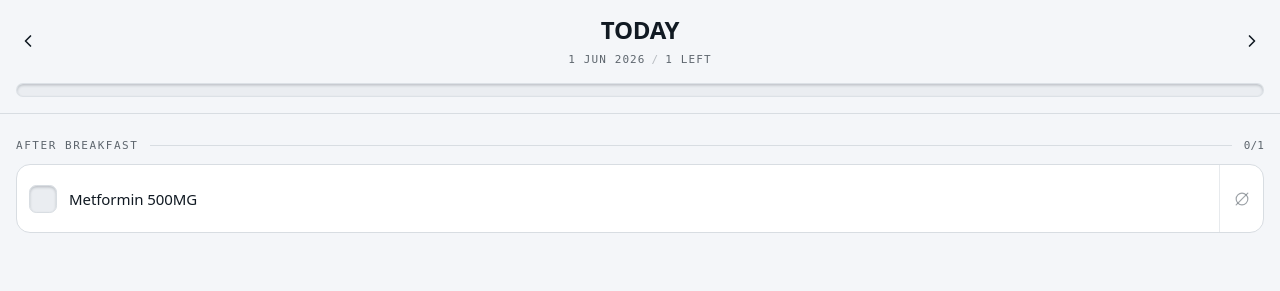
the day rolling over under the Today screen › stays on a day the user walked to, and relabels it
The image size is (1280, 291).
Click the button named "previous day".
click(28, 41)  # box [12, 25, 44, 57]
Wait 10000000 ms
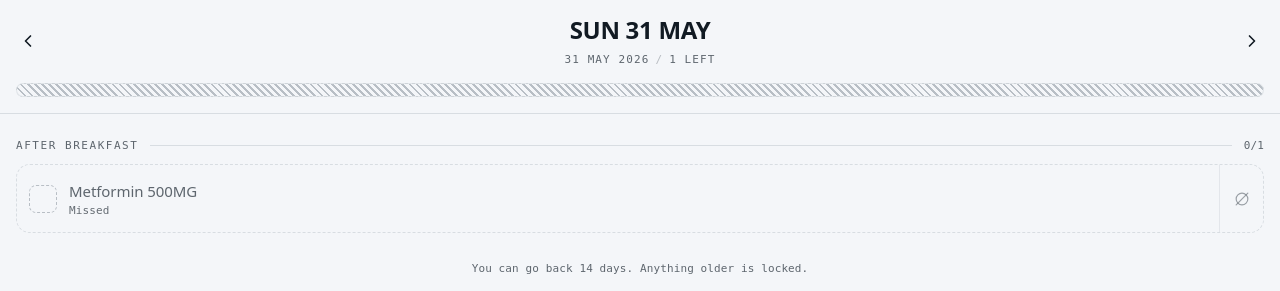
expect the text "31 May 2026" is shown: met, box [564, 53, 650, 66]
expect the heading "Sun 31 May" is shown: met, box [570, 13, 710, 46]
